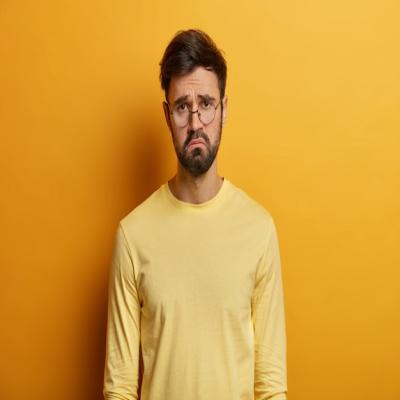sad: (169, 73, 221, 172)
